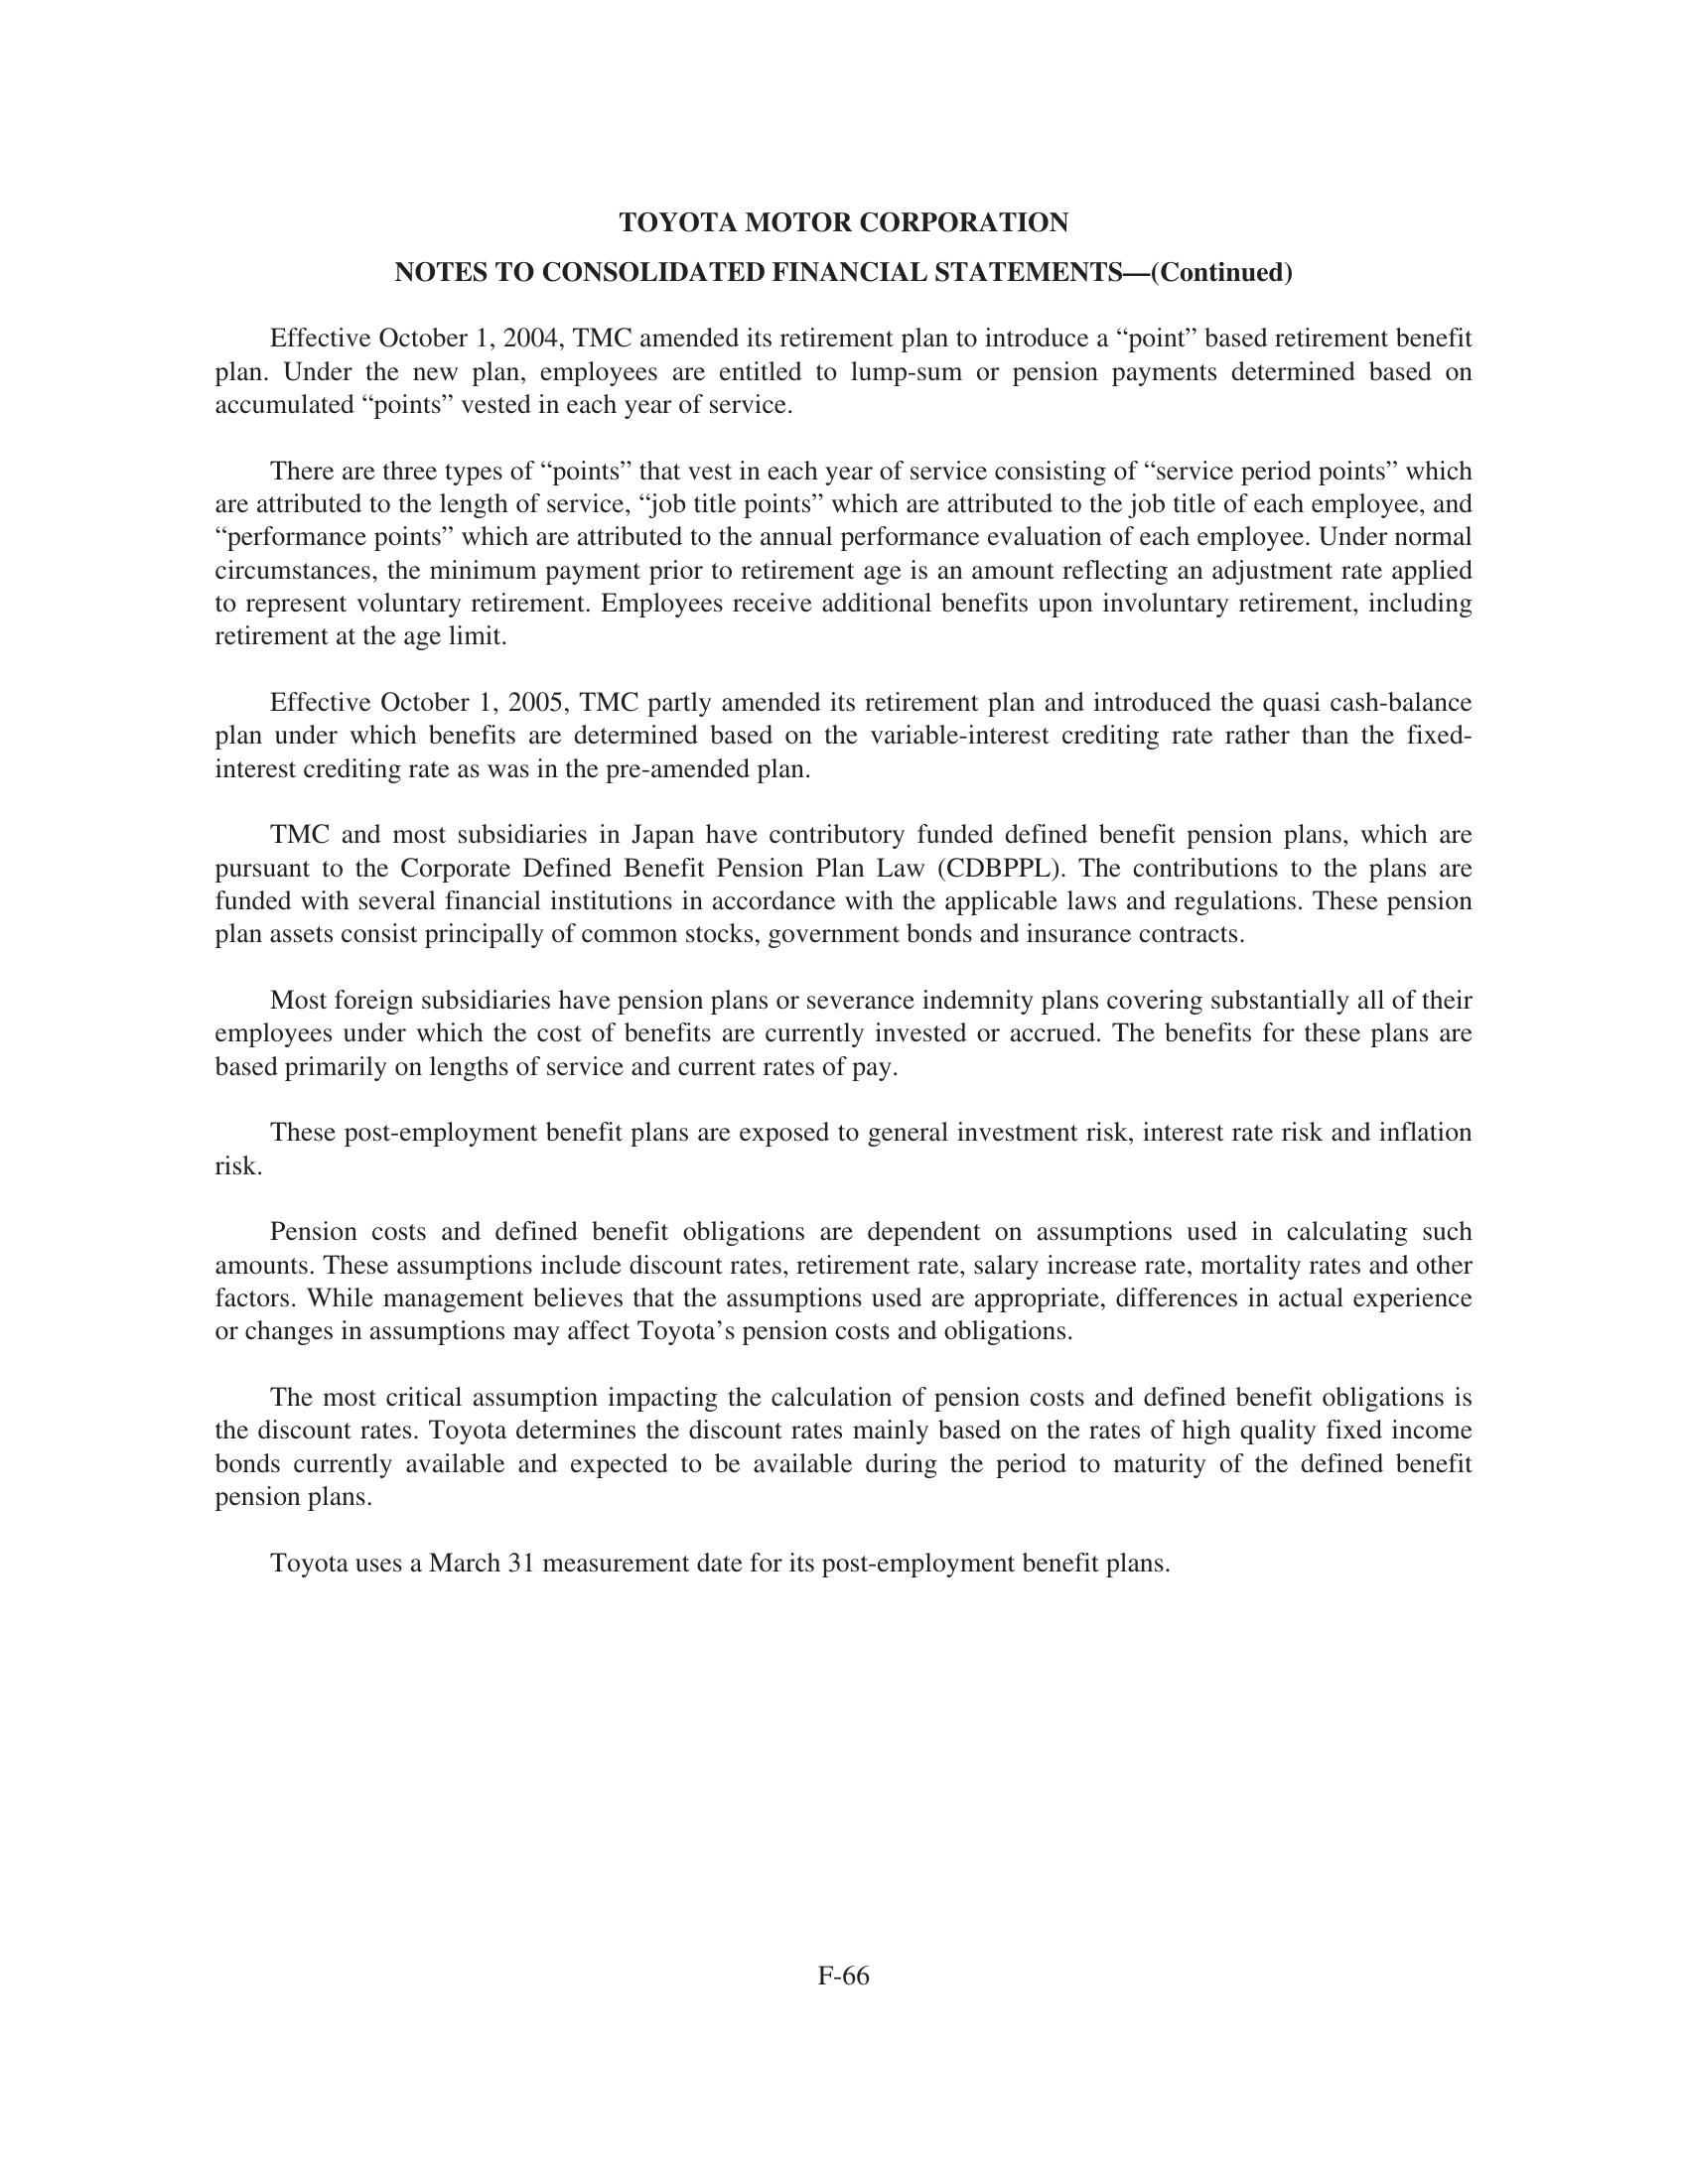Footer: (0, 1950, 1688, 2184)
Header: (0, 0, 1688, 195)
